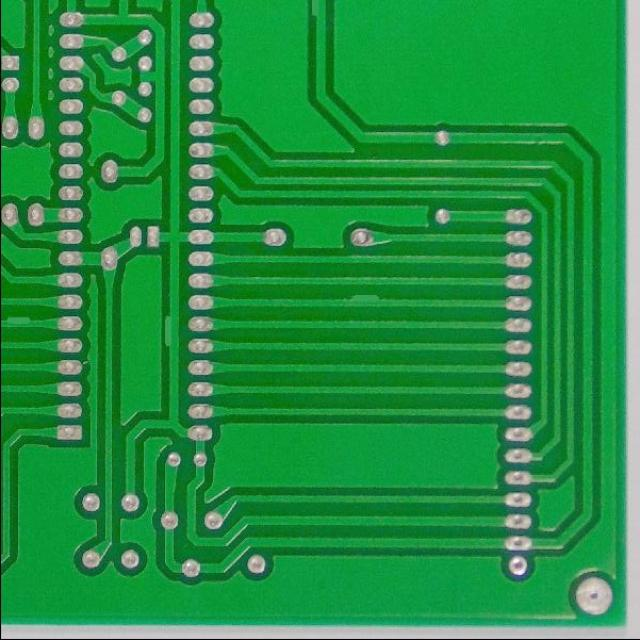spur: (343, 286, 386, 316), (159, 308, 182, 354), (2, 310, 34, 330), (305, 1, 329, 25)
